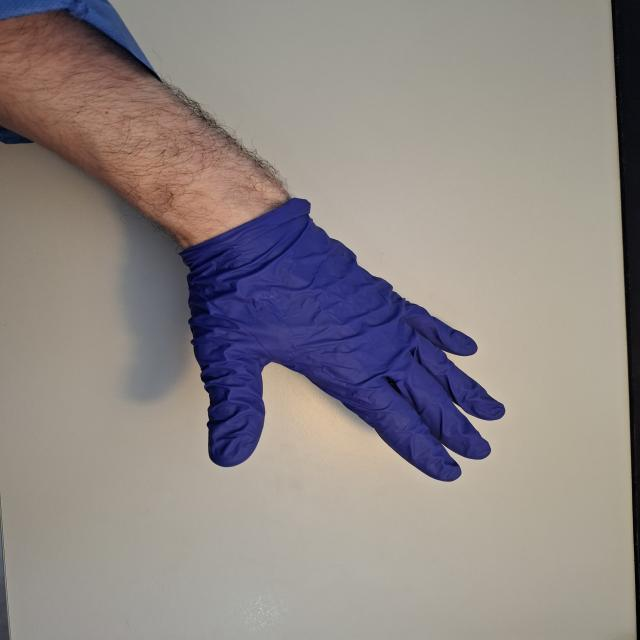glove_on: (176, 193, 514, 484)
